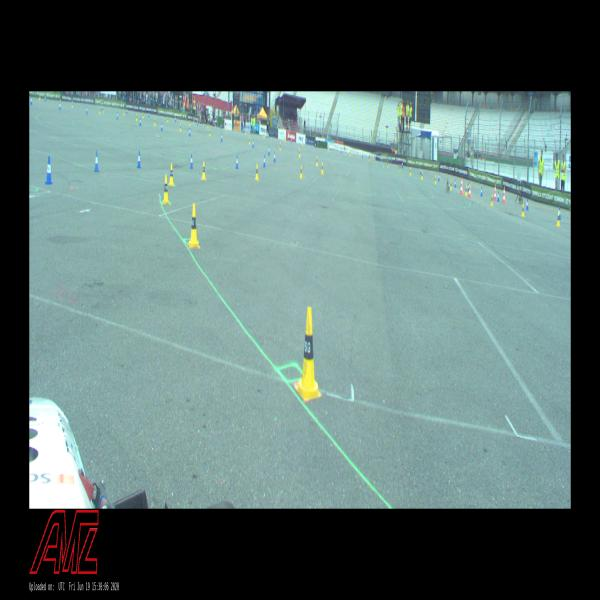blue_cone: (45, 156, 53, 184), (94, 152, 99, 172), (137, 150, 141, 168), (190, 154, 193, 169), (263, 155, 266, 167), (273, 151, 276, 162), (558, 208, 561, 219), (480, 186, 483, 196), (236, 155, 238, 169), (497, 190, 499, 202), (526, 200, 528, 210), (139, 117, 141, 126), (268, 146, 270, 154), (221, 133, 223, 141), (454, 180, 456, 188), (252, 139, 254, 147), (189, 128, 191, 136), (467, 183, 469, 191), (30, 97, 32, 105), (59, 102, 61, 110), (116, 112, 118, 120), (161, 123, 163, 130), (86, 107, 88, 114), (44, 96, 46, 102), (126, 108, 128, 114), (380, 156, 382, 162), (220, 124, 222, 129), (148, 113, 150, 117), (438, 173, 439, 180), (420, 167, 421, 174), (402, 162, 403, 168), (362, 152, 363, 158), (315, 142, 316, 148), (102, 105, 103, 110), (197, 120, 198, 125), (291, 138, 292, 143), (243, 128, 244, 133), (175, 117, 176, 121), (268, 134, 269, 138)
large_orange_cone: (502, 186, 506, 203), (468, 180, 471, 198), (460, 177, 463, 194), (494, 185, 496, 200)
yellow_cone: (295, 307, 322, 400), (189, 204, 200, 247), (162, 175, 170, 204), (169, 163, 174, 185), (202, 162, 206, 179), (255, 164, 259, 180), (556, 212, 560, 226), (520, 203, 524, 216), (490, 194, 493, 205), (300, 165, 302, 179), (321, 162, 323, 173), (450, 180, 452, 190), (316, 156, 318, 166), (465, 185, 467, 195), (280, 142, 282, 150), (180, 124, 182, 132), (298, 148, 300, 156), (399, 164, 401, 172), (410, 168, 412, 176), (154, 118, 156, 125), (249, 137, 251, 144), (421, 172, 423, 179), (39, 93, 41, 100), (59, 99, 61, 106), (99, 107, 101, 114), (167, 116, 169, 123), (142, 112, 144, 118), (123, 109, 125, 115), (189, 120, 191, 126), (349, 150, 351, 156), (368, 155, 370, 161), (207, 123, 209, 128), (225, 126, 227, 131), (435, 175, 436, 184), (209, 129, 210, 136), (136, 114, 137, 121), (72, 101, 73, 108), (103, 106, 104, 113), (328, 144, 329, 151), (387, 160, 388, 167), (284, 136, 285, 142), (302, 139, 303, 145), (245, 130, 246, 134), (264, 132, 264, 138)
